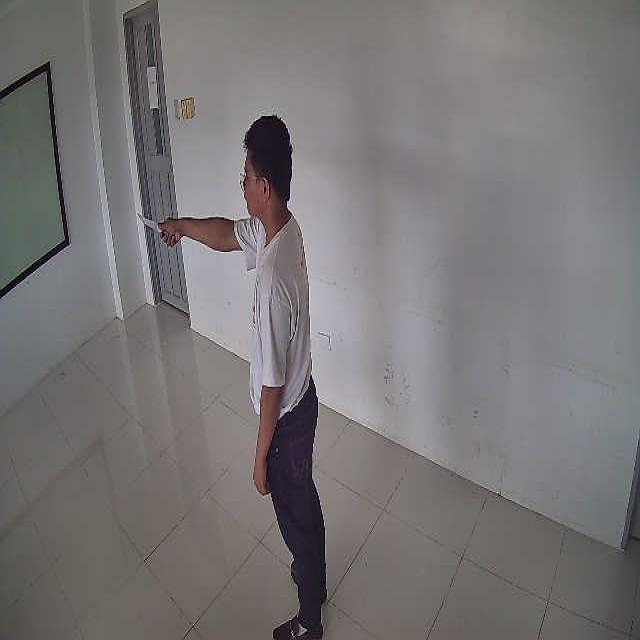knife: (137, 212, 175, 240)
